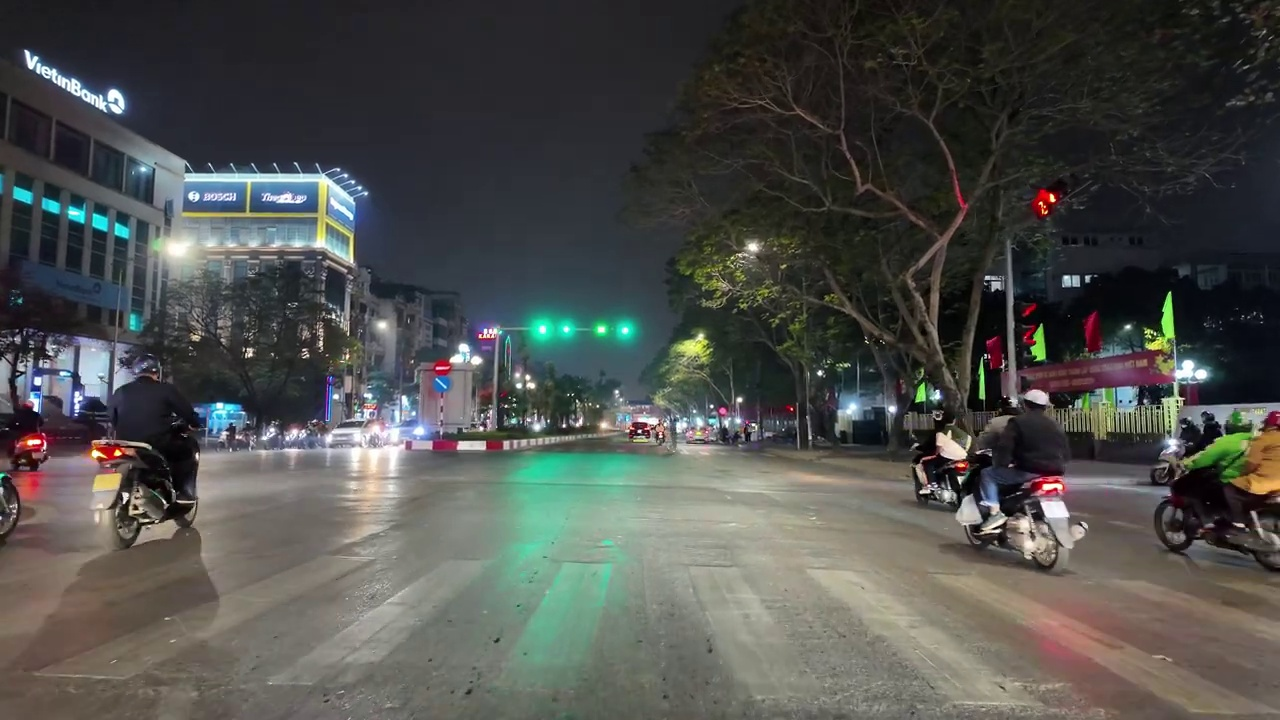acesa: (160, 235, 197, 264), (372, 315, 396, 340)
